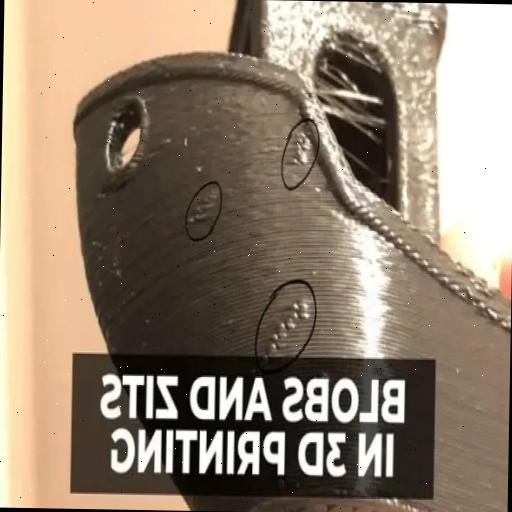blobs: (262, 290, 306, 363), (287, 123, 309, 184), (189, 187, 217, 233)
stringing: (310, 41, 404, 123)
